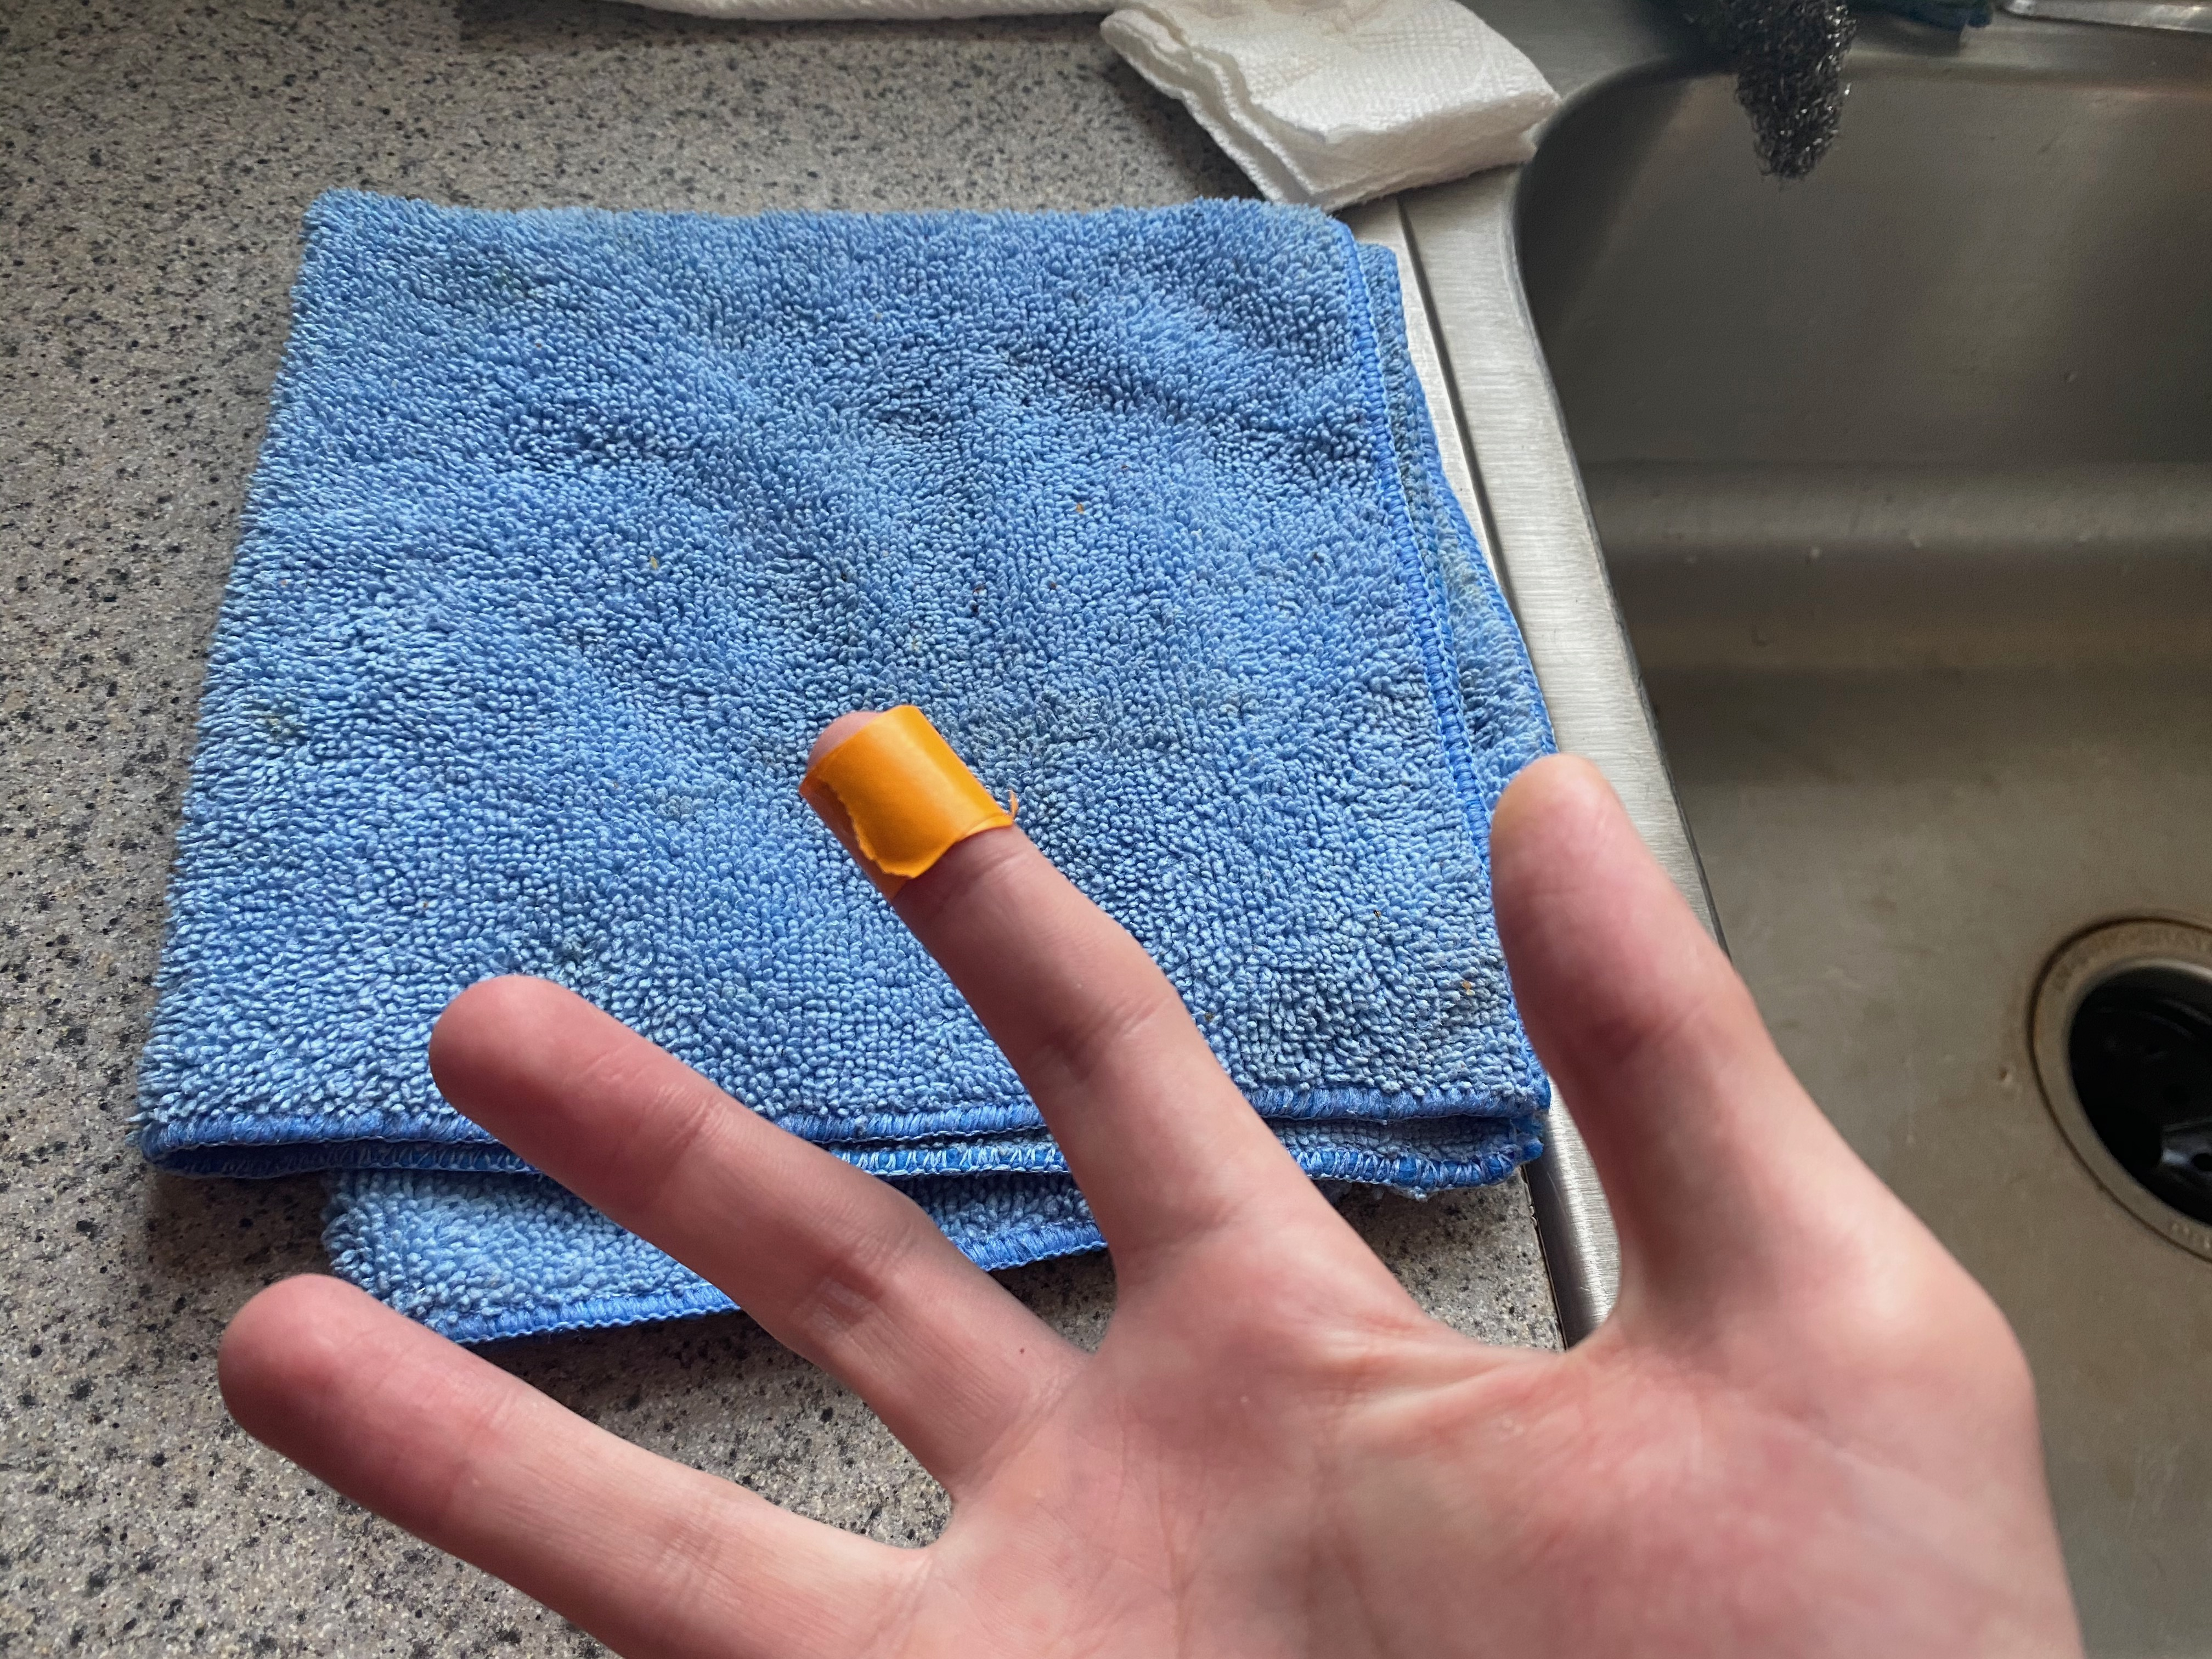fingertip: (786, 699, 1080, 943)
